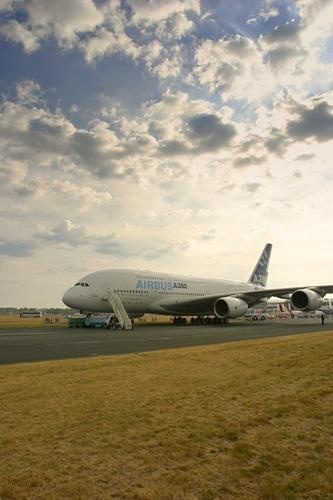aeroplane: (62, 242, 333, 324)
